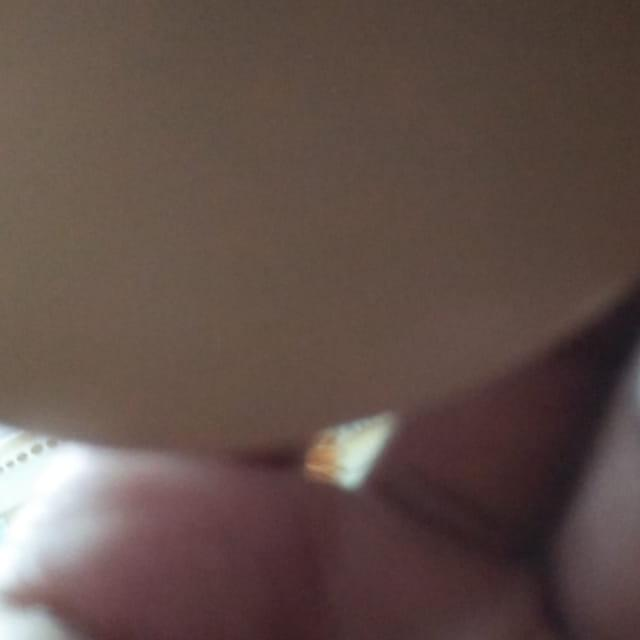egg: (0, 0, 640, 473)
